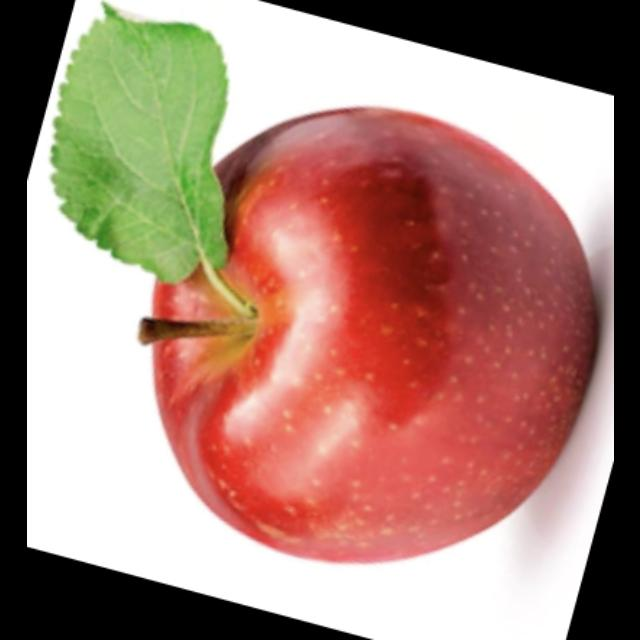Apel Segar: (147, 98, 606, 564)
